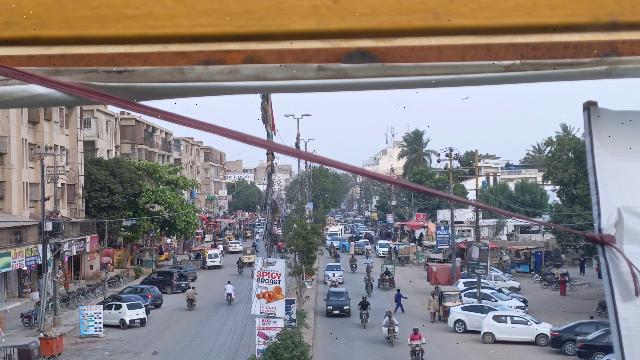Bike: (383, 323, 400, 347), (407, 342, 428, 360), (359, 307, 370, 331), (363, 280, 377, 297), (225, 292, 234, 308), (187, 296, 195, 314)
Car: (480, 311, 553, 347), (549, 318, 605, 353), (446, 300, 499, 333), (140, 269, 190, 296), (103, 301, 150, 329), (574, 325, 611, 360), (322, 286, 353, 320), (123, 284, 163, 309), (321, 262, 347, 285)
Cart: (377, 261, 398, 292)
Person: (392, 286, 408, 316), (425, 291, 439, 324), (408, 323, 428, 346), (383, 308, 396, 326), (358, 295, 372, 310), (223, 279, 235, 294), (383, 265, 393, 280), (186, 284, 196, 299), (364, 270, 374, 284)
Rickshaw: (435, 284, 463, 323)
Van: (204, 248, 224, 271)
